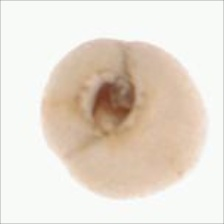L3: (83, 72, 141, 134)
L4: (40, 38, 207, 198)
